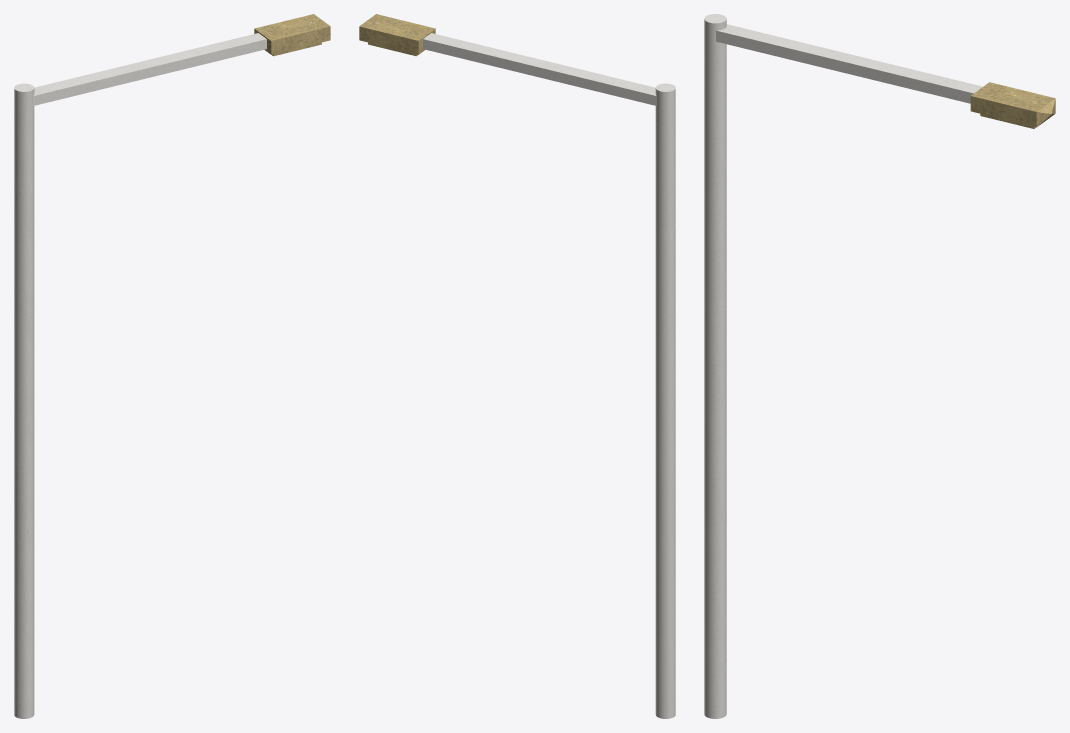
File: tree0.glb
3 views of the same model, side by side, from view 1: azimuth 30°, elevation 25°; view 2: azimuth 150°, elevation 25°; view 3: azimuth 330°, elevation 25° (orthographic). The views are drawn at different scales.
Parts seen in each view (by area): view 1: Tree0; view 2: Tree0; view 3: Tree0.
Part boxes in pixels (x1,y1,x2,y2): Tree0: [14, 14, 330, 718]; Tree0: [359, 14, 675, 718]; Tree0: [704, 14, 1055, 718].
Bounding box in the file's own units: 3.19 × 6.13 × 0.3008.
2 materials, 2 textured.
